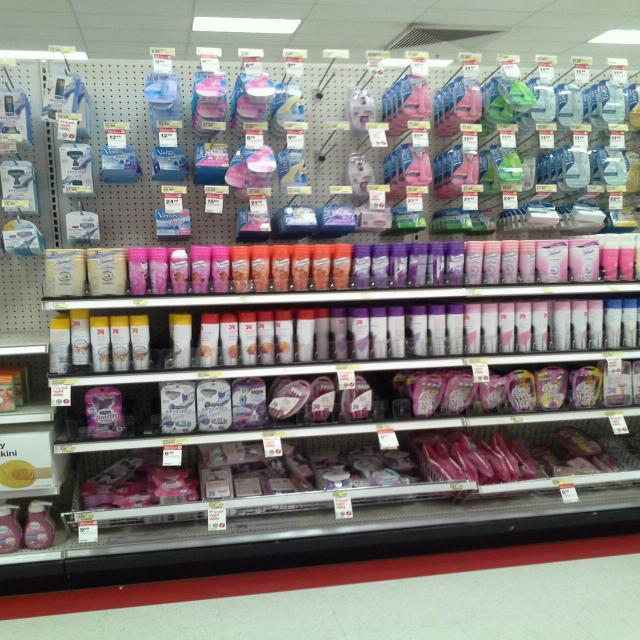void: (0, 268, 40, 351), (133, 385, 159, 441), (379, 374, 410, 418)
